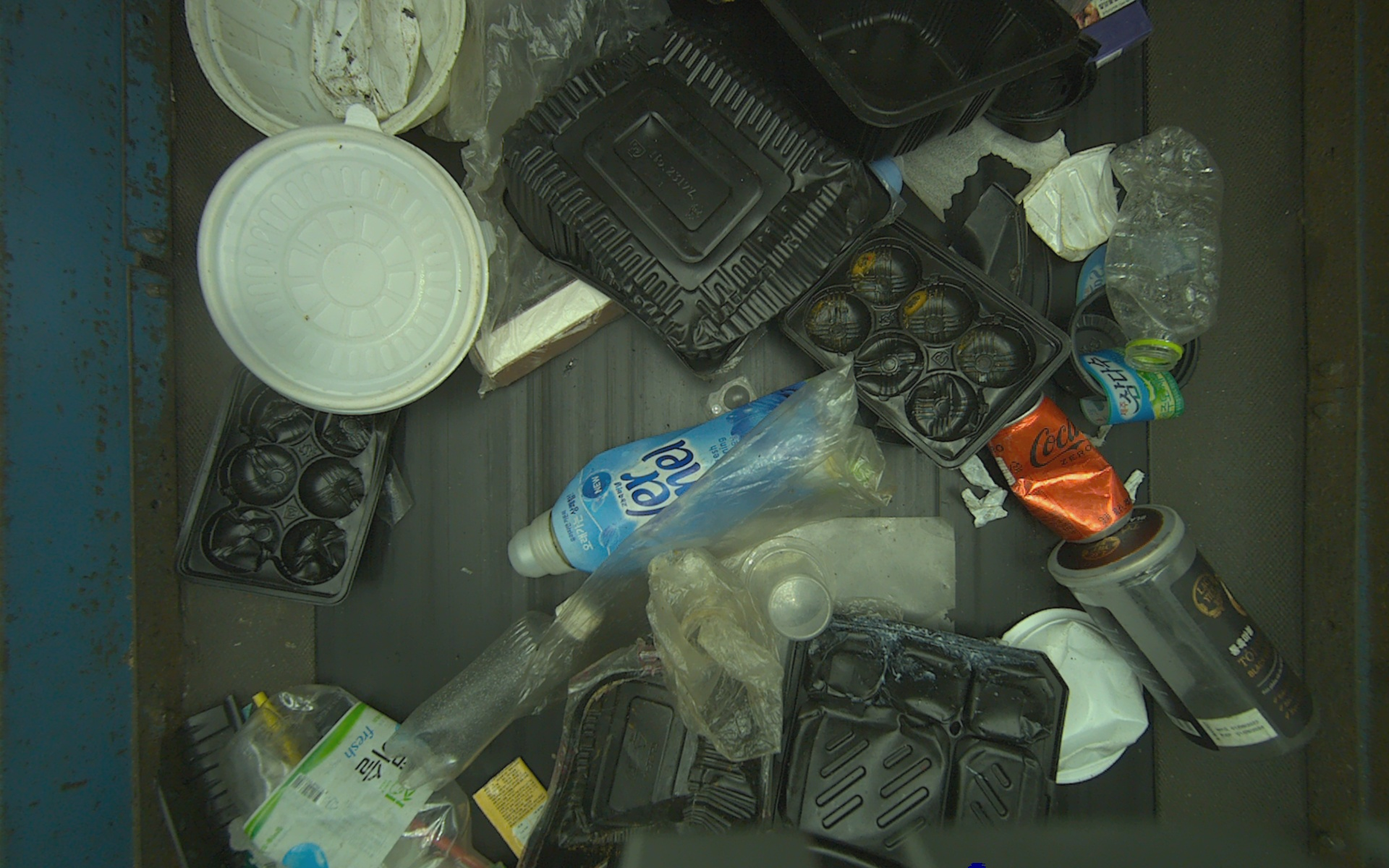PET: (221, 686, 507, 868), (1105, 127, 1223, 371)
PET-C: (1049, 505, 1320, 760), (386, 599, 569, 790)
PP-B: (502, 16, 892, 377), (781, 217, 1073, 469), (175, 363, 402, 606), (759, 0, 1078, 162)
